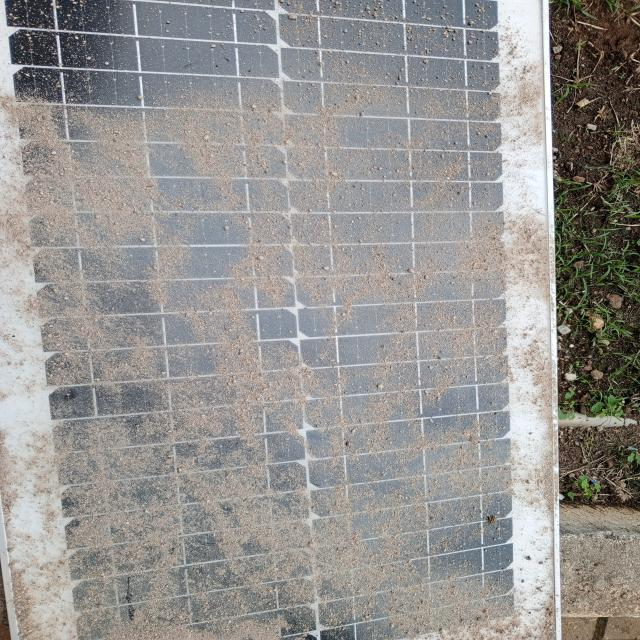Surface Contaminant: (35, 49, 526, 639)
